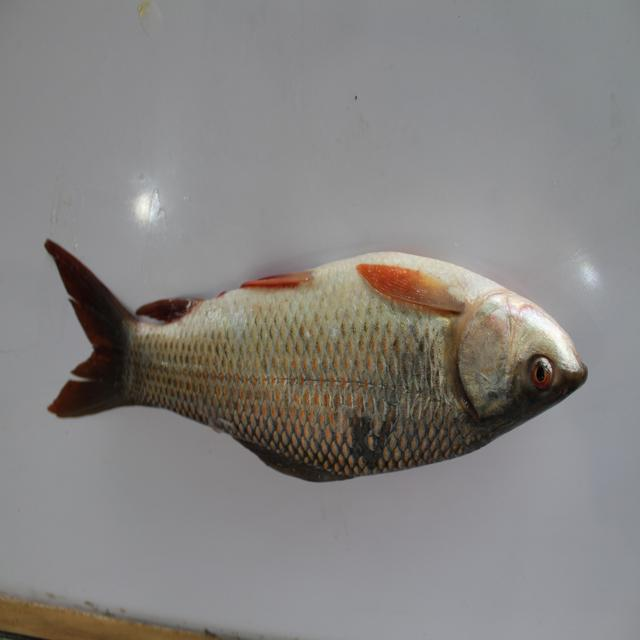Rohu: (33, 213, 585, 487)
